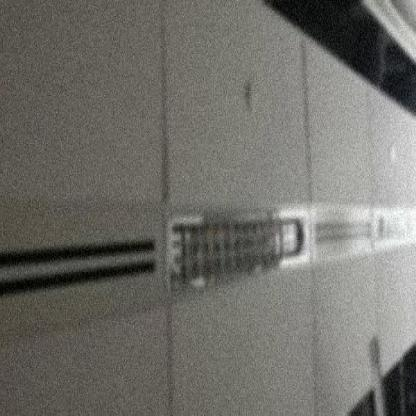light_off: (164, 184, 313, 300), (367, 192, 415, 273)
